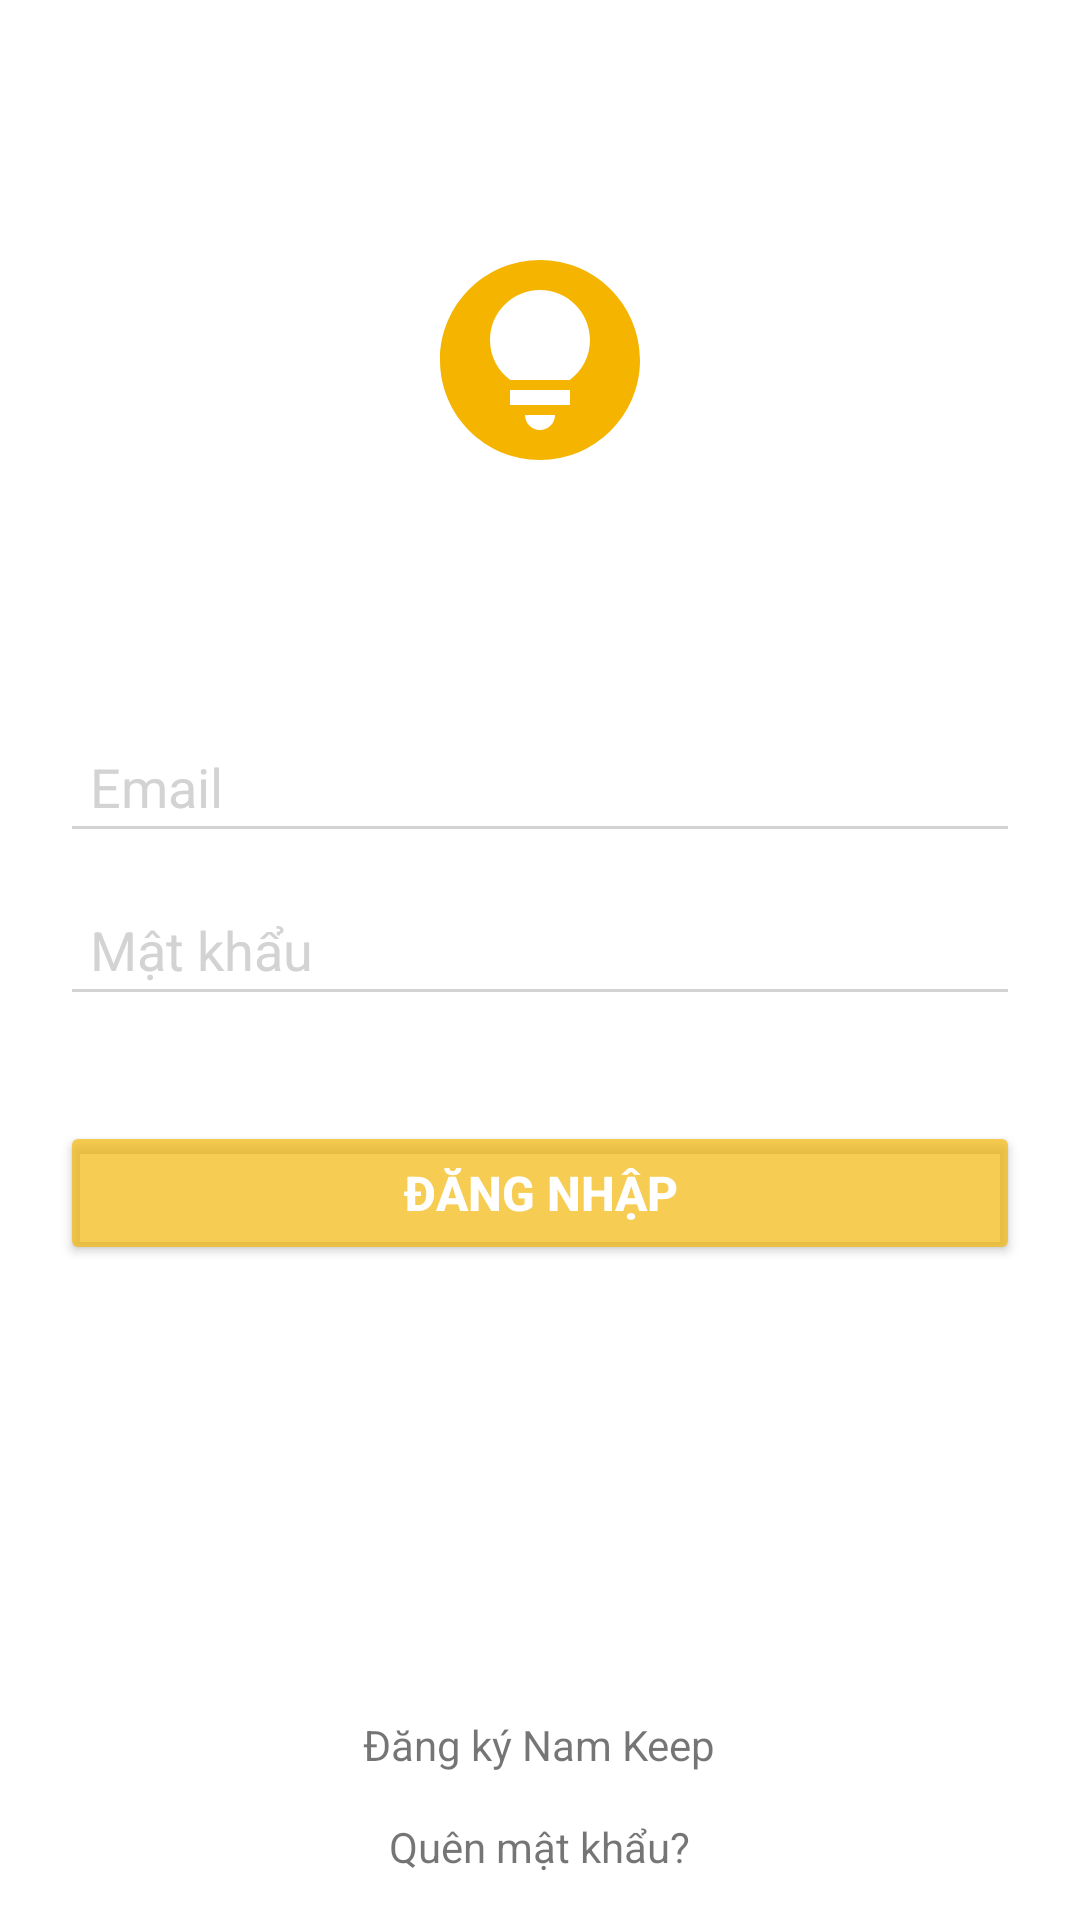

Screen size 1080px×1920px. Icon name, then its center in pixels as (x,y):
lightbulb circle: (539,360)
